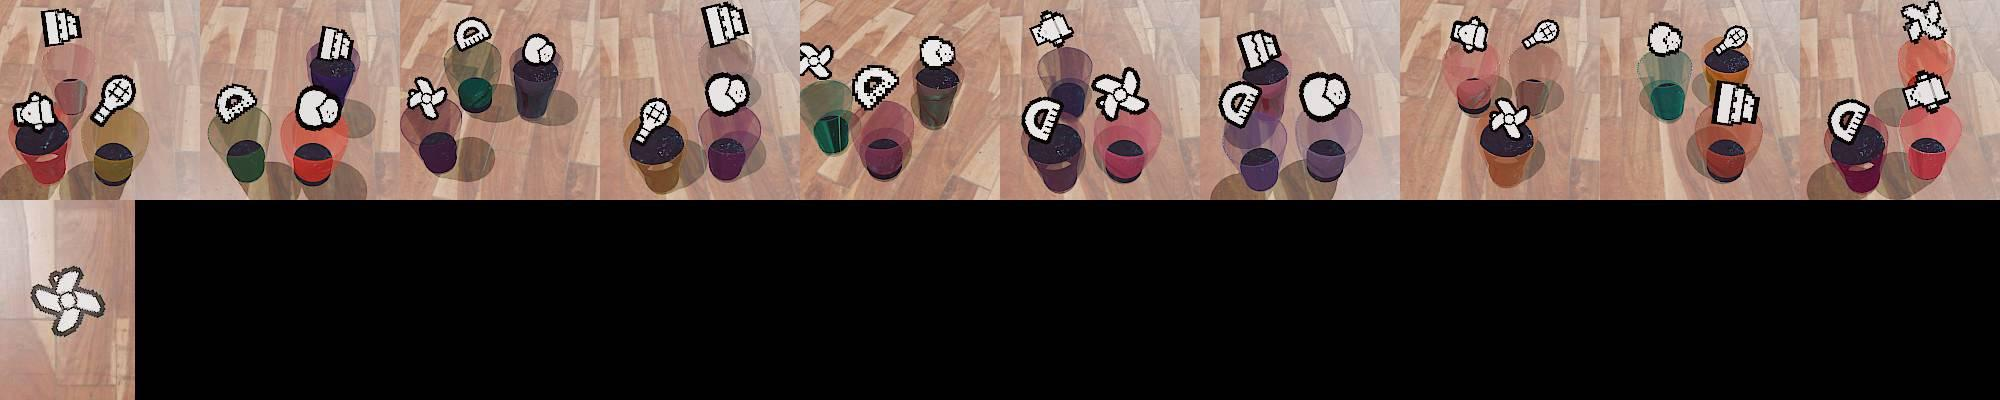icon: (29, 264, 108, 338), (1091, 64, 1149, 120), (1298, 71, 1352, 122), (89, 74, 136, 127), (851, 64, 899, 112), (1710, 79, 1760, 126), (700, 3, 749, 48), (293, 85, 343, 129), (1828, 98, 1871, 146), (1902, 71, 1952, 113), (704, 71, 750, 116), (1489, 96, 1533, 141), (1899, 1, 1946, 45), (1218, 83, 1260, 131), (1237, 28, 1283, 71), (1023, 97, 1065, 144), (213, 83, 259, 125), (406, 74, 448, 118), (633, 96, 671, 144), (14, 90, 59, 130), (41, 8, 83, 48), (1031, 10, 1073, 50), (1450, 15, 1490, 54), (798, 42, 834, 82), (318, 24, 353, 62), (918, 34, 958, 69), (453, 17, 492, 51), (1647, 20, 1684, 56), (1522, 19, 1561, 51), (522, 32, 557, 66), (1716, 25, 1750, 56)
